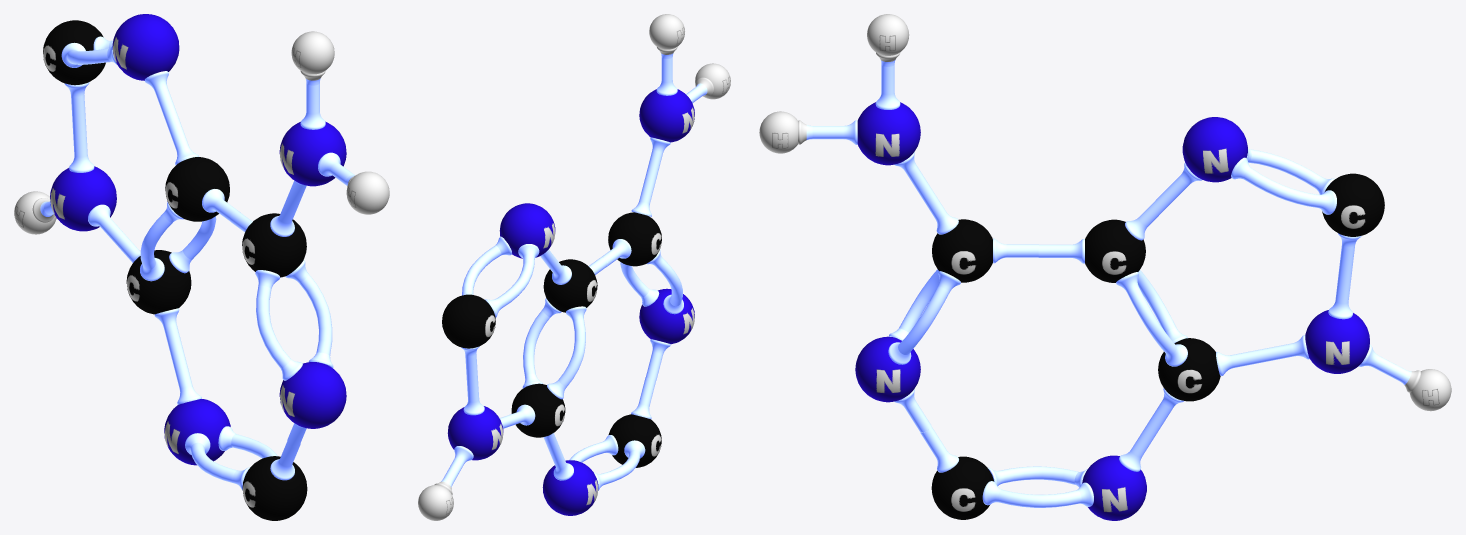
Rendered from adenine_molecule__3d_structural_model.glb.
3 views of the same model, side by side, from view 1: azimuth 30°, elevation 25°; view 2: azimuth 150°, elevation 25°; view 3: azimuth 270°, elevation 25° (orthographic). The views are drawn at different scales.
Parts seen in each view (by area): view 1: Azot_Atomu_Yuksek_Detay011, Azot_Atomu_Yuksek_Detay014, Azot_Atomu_Yuksek_Detay012, Karbon_Atomu_Yuksek_Detay008, Azot_Atomu_Yuksek_Detay038, Karbon_Atomu_Yuksek_Detay010, Karbon_Atomu_Yuksek_Detay043, Azot_Atomu_Yuksek_Detay009, Karbon_Atomu_Yuksek_Detay009, Karbon_Atomu_Yuksek_Detay011, Karbon_Atomu_cift_Bag_Yuksek_Detay037, Azot_Atomu_Cift_Bag_Yuksek_Detay014 (+21 smaller); view 2: Karbon_Atomu_Yuksek_Detay011, Azot_Atomu_Yuksek_Detay038, Azot_Atomu_Yuksek_Detay009, Azot_Atomu_Yuksek_Detay014, Azot_Atomu_Yuksek_Detay012, Karbon_Atomu_Yuksek_Detay043, Azot_Atomu_Yuksek_Detay011, Karbon_Atomu_Yuksek_Detay009, Karbon_Atomu_Yuksek_Detay010, Karbon_Atomu_Yuksek_Detay008, Karbon_Atomu_cift_Bag_Yuksek_Detay003, Karbon_Atomu_cift_Bag_Yuksek_Detay002 (+21 smaller); view 3: Azot_Atomu_Yuksek_Detay014, Azot_Atomu_Yuksek_Detay012, Azot_Atomu_Yuksek_Detay038, Azot_Atomu_Yuksek_Detay009, Azot_Atomu_Yuksek_Detay011, Karbon_Atomu_Yuksek_Detay043, Karbon_Atomu_Yuksek_Detay010, Karbon_Atomu_Yuksek_Detay011, Karbon_Atomu_Yuksek_Detay008, Karbon_Atomu_Yuksek_Detay009, Karbon_Atomu_cift_Bag_Yuksek_Detay004, Karbon_Atomu_cift_Bag_Yuksek_Detay001 (+9 smaller).
Boxes of the visible parts, x1,y1,x2,y2 form: Azot_Atomu_Yuksek_Detay011: (279, 362, 346, 428); Azot_Atomu_Yuksek_Detay014: (112, 14, 179, 80); Azot_Atomu_Yuksek_Detay012: (50, 166, 116, 231); Karbon_Atomu_Yuksek_Detay008: (242, 456, 307, 520); Azot_Atomu_Yuksek_Detay038: (279, 121, 346, 186); Karbon_Atomu_Yuksek_Detay010: (165, 157, 229, 221); Karbon_Atomu_Yuksek_Detay043: (242, 213, 306, 277); Azot_Atomu_Yuksek_Detay009: (164, 399, 230, 465); Karbon_Atomu_Yuksek_Detay009: (126, 250, 191, 314); Karbon_Atomu_Yuksek_Detay011: (43, 20, 105, 85); Karbon_Atomu_cift_Bag_Yuksek_Detay037: (255, 260, 329, 328); Azot_Atomu_Cift_Bag_Yuksek_Detay014: (259, 311, 333, 380); Karbon_Atomu_Yuksek_Detay011: (442, 294, 495, 348); Azot_Atomu_Yuksek_Detay038: (639, 89, 694, 142); Azot_Atomu_Yuksek_Detay009: (542, 460, 598, 515); Azot_Atomu_Yuksek_Detay014: (499, 203, 555, 258); Azot_Atomu_Yuksek_Detay012: (447, 406, 503, 460); Karbon_Atomu_Yuksek_Detay043: (608, 212, 661, 266); Azot_Atomu_Yuksek_Detay011: (639, 288, 694, 344); Karbon_Atomu_Yuksek_Detay009: (511, 383, 565, 437); Karbon_Atomu_Yuksek_Detay010: (543, 259, 597, 312); Karbon_Atomu_Yuksek_Detay008: (608, 414, 661, 467); Karbon_Atomu_cift_Bag_Yuksek_Detay003: (525, 298, 586, 355); Karbon_Atomu_cift_Bag_Yuksek_Detay002: (522, 341, 583, 399); Azot_Atomu_Yuksek_Detay014: (1182, 117, 1247, 182); Azot_Atomu_Yuksek_Detay012: (1305, 310, 1369, 373); Azot_Atomu_Yuksek_Detay038: (857, 102, 920, 165); Azot_Atomu_Yuksek_Detay009: (1082, 455, 1146, 520); Azot_Atomu_Yuksek_Detay011: (855, 336, 920, 402); Karbon_Atomu_Yuksek_Detay043: (932, 219, 992, 282); Karbon_Atomu_Yuksek_Detay010: (1085, 219, 1145, 282); Karbon_Atomu_Yuksek_Detay011: (1322, 173, 1384, 236); Karbon_Atomu_Yuksek_Detay008: (931, 456, 993, 519); Karbon_Atomu_Yuksek_Detay009: (1158, 338, 1220, 401); Karbon_Atomu_cift_Bag_Yuksek_Detay004: (1281, 158, 1336, 214); Karbon_Atomu_cift_Bag_Yuksek_Detay001: (982, 466, 1038, 507).
Bounding box in the file's own units: 0.0371 × 0.2618 × 0.3273.
4 materials, 3 textured.
